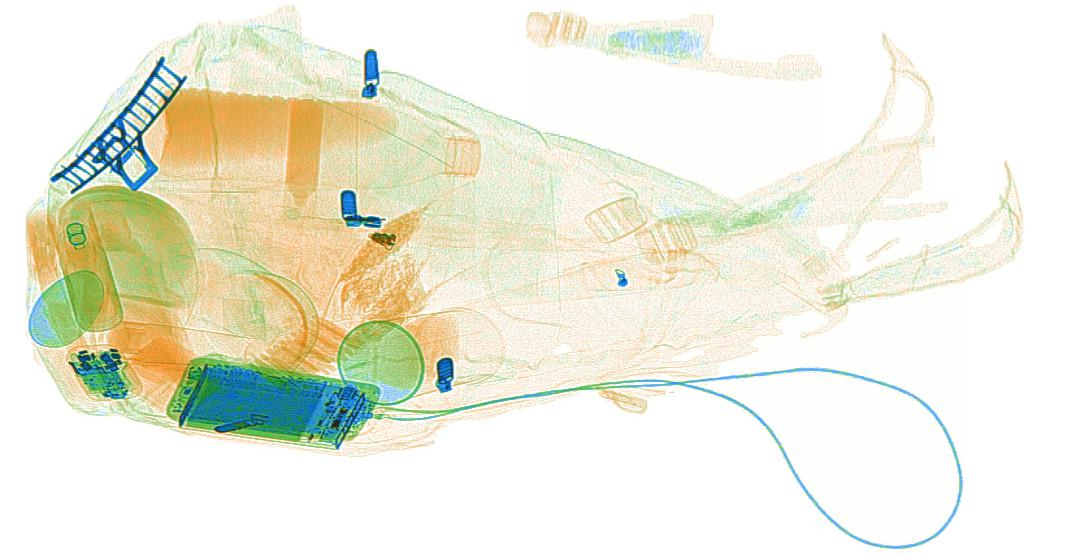plasticBottleWithaNozzle: (45, 195, 124, 332)
